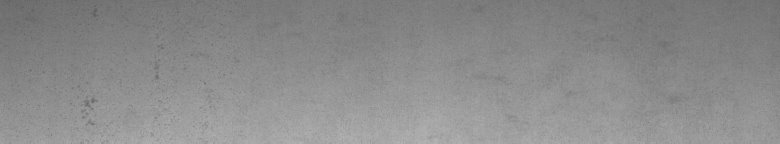ib: (78, 9, 164, 126)
